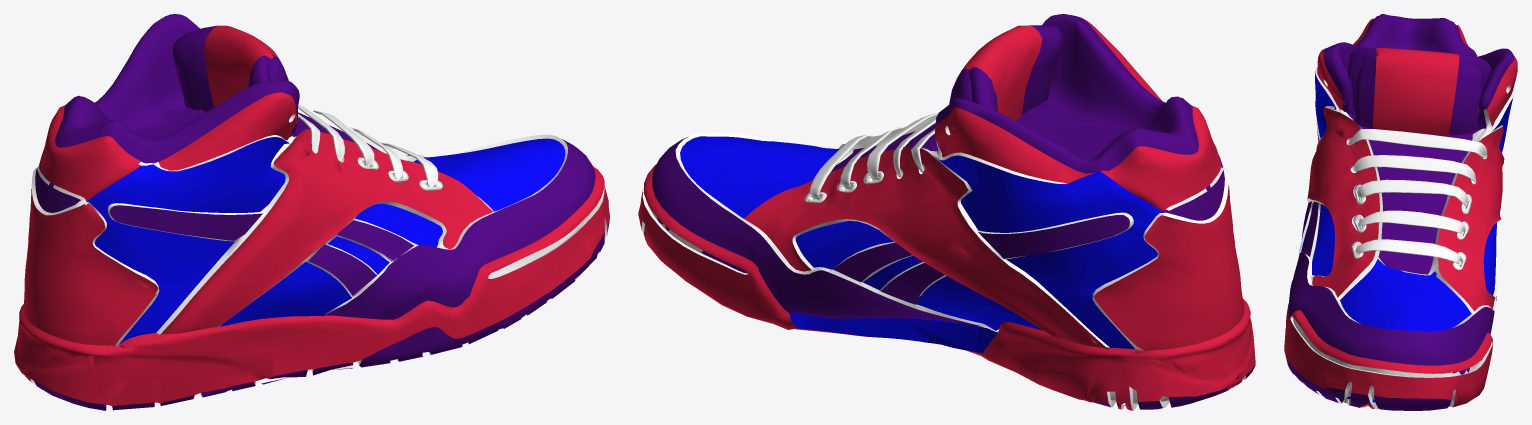
File: shoe1-left.dae
The picture shows the model from 3 angles, left to right: view 1: azimuth 30°, elevation 25°; view 2: azimuth 150°, elevation 25°; view 3: azimuth 270°, elevation 25°; orthographic projection. The views are drawn at different scales.
Parts seen in each view (by area): view 1: white1 (×4), sole, white2 (×5), black (×2), white3, plastic1 (×4), edges (×2), tag, bblack, thread, laces; view 2: white1 (×4), white2 (×5), sole, black (×2), white3 (×2), plastic1 (×4), edges (×2), inshoe, tag, laces (×3); view 3: white1 (×4), white3 (×2), white2 (×5), sole, laces (×5), black (×2), tag, white, edges, bblack (×3), thread, plastic1 (+1 smaller).
Part boxes in pixels (left/top/right/bottom): white1 (×4): left=24, top=92, right=492, bottom=345; sole: left=14, top=166, right=609, bottom=405; white2 (×5): left=87, top=137, right=565, bottom=343; black (×2): left=55, top=14, right=299, bottom=163; white3: left=324, top=139, right=595, bottom=319; plastic1 (×4): left=35, top=169, right=413, bottom=295; edges (×2): left=31, top=108, right=567, bottom=345; tag: left=204, top=25, right=278, bottom=106; bblack: left=359, top=232, right=604, bottom=367; thread: left=488, top=204, right=597, bottom=278; laces: left=313, top=110, right=374, bottom=166; white1 (×4): left=744, top=106, right=1244, bottom=351; white2 (×5): left=680, top=136, right=1167, bottom=349; sole: left=638, top=164, right=1255, bottom=410; black (×2): left=935, top=14, right=1198, bottom=173; white3 (×2): left=652, top=123, right=982, bottom=326; plastic1 (×4): left=833, top=170, right=1224, bottom=304; edges (×2): left=675, top=79, right=1228, bottom=350; inshoe: left=789, top=312, right=997, bottom=353; tag: left=961, top=25, right=1042, bottom=120; laces (×3): left=809, top=112, right=938, bottom=199; white1 (×4): left=1307, top=49, right=1517, bottom=311; white3 (×2): left=1288, top=126, right=1496, bottom=374; white2 (×5): left=1312, top=71, right=1513, bottom=331; sole: left=1284, top=303, right=1492, bottom=407; laces (×5): left=1348, top=129, right=1487, bottom=263; black (×2): left=1323, top=14, right=1514, bottom=134; tag: left=1372, top=48, right=1459, bottom=135; white: left=1355, top=57, right=1483, bottom=135; edges: left=1299, top=68, right=1515, bottom=327; bblack (×3): left=1285, top=356, right=1451, bottom=410; thread: left=1293, top=318, right=1480, bottom=377; plastic1: left=1303, top=201, right=1318, bottom=256.
Size of the model in its own units: 11.93 by 4.93 by 6.
